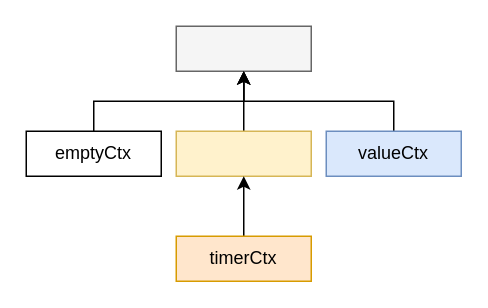
Some shapes in this 488 by 308 pixel diagram are drawn without their labels. The shapes that lost their labels are listed below. From the top down, each one's box as (x1, y1, x2, y2) in pixels, then its label:
(175, 25, 311, 71): Context
(175, 130, 311, 176): cancelCtx
